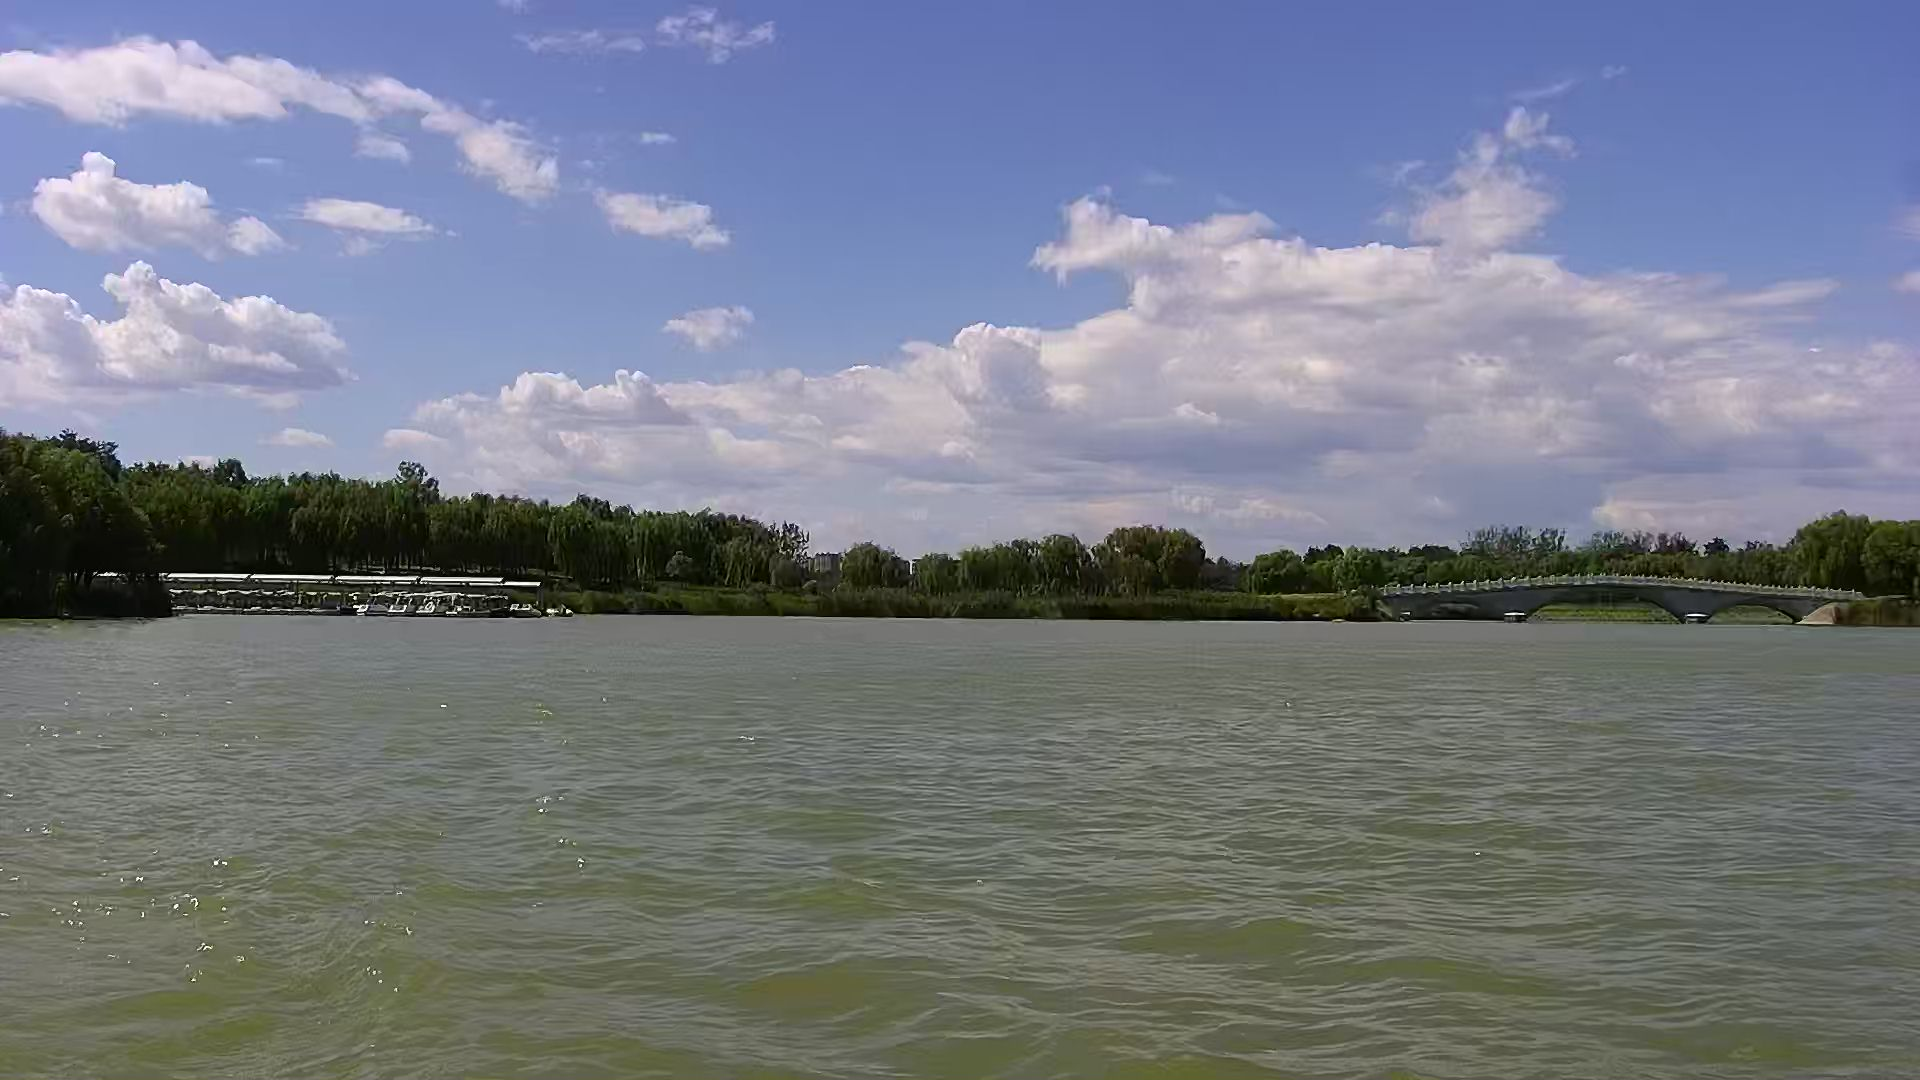bridge: (1375, 574, 1854, 629)
harbor: (166, 572, 563, 621)
